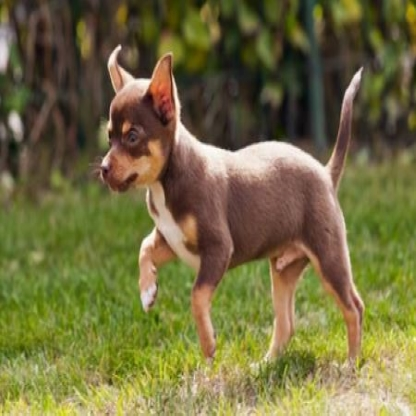chihuahua: (93, 43, 373, 372)
